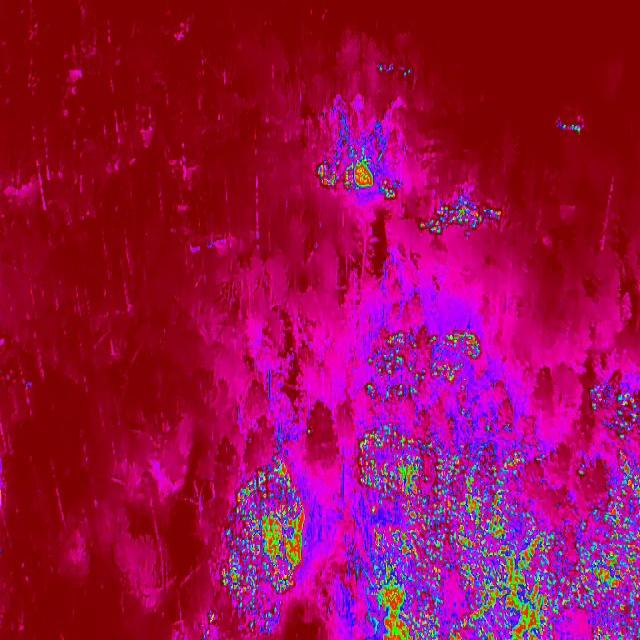fire: (356, 417, 555, 640), (221, 452, 312, 628), (366, 328, 481, 402), (595, 504, 640, 615), (316, 145, 402, 201), (418, 194, 503, 238), (588, 378, 640, 441), (554, 545, 597, 613), (607, 446, 640, 500), (554, 105, 589, 136), (375, 58, 415, 80), (205, 608, 220, 627), (593, 627, 613, 640), (614, 626, 626, 640)
